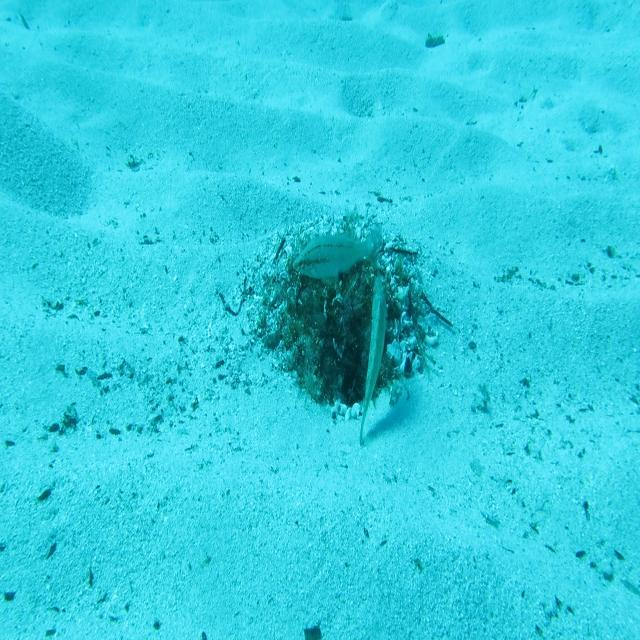GB: (357, 271, 395, 450)
core_nest: (322, 252, 364, 298)
female: (290, 220, 385, 285)
nest: (232, 197, 443, 436)
vegetation: (422, 32, 449, 52), (303, 622, 323, 640)
